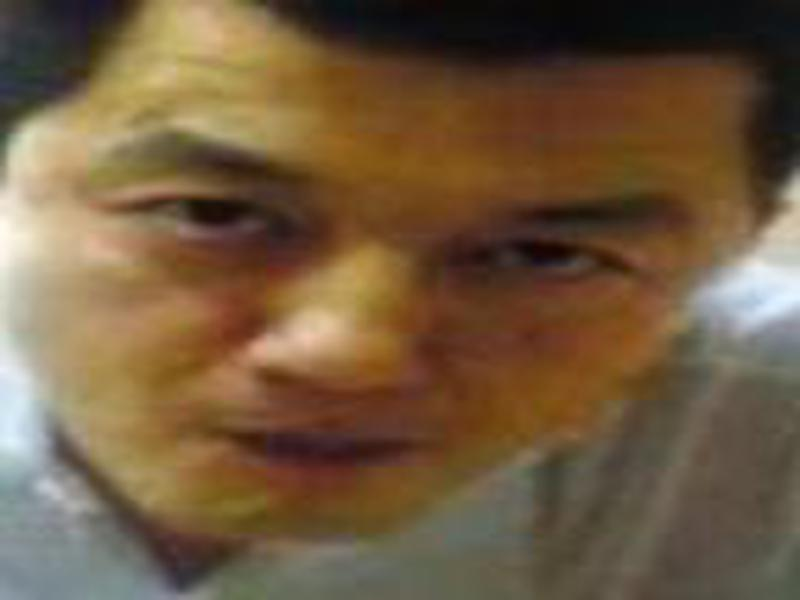without_mask: (12, 12, 731, 557)
